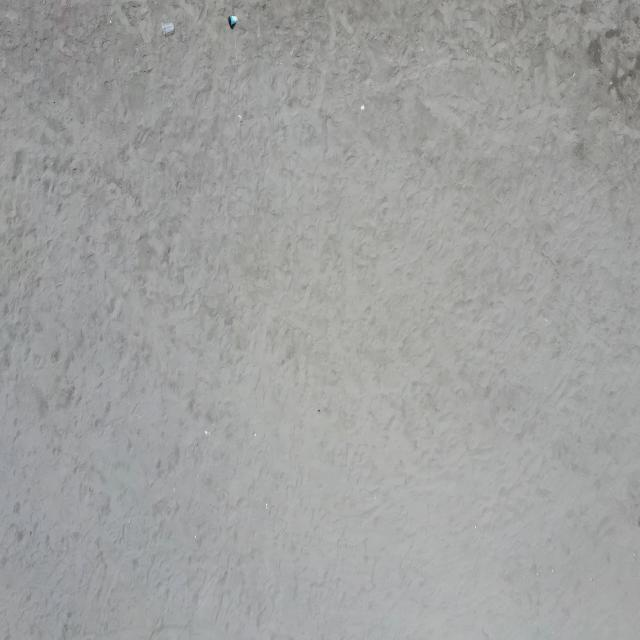takeaway-cup: (161, 22, 175, 35), (228, 14, 238, 27)
